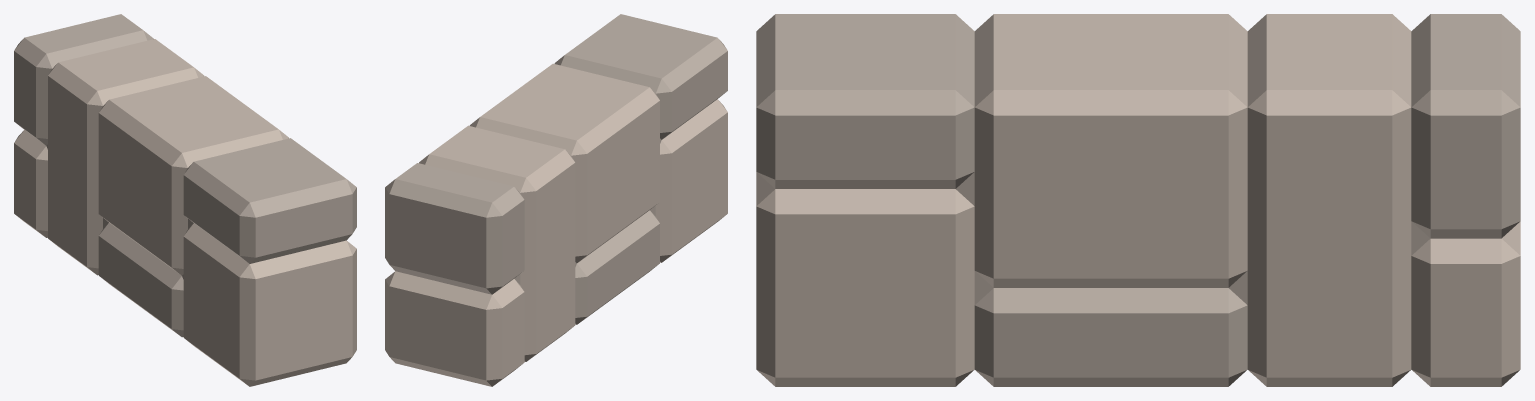
The model's file is Stone_Curb_3.glb.
3 views of the same model, side by side, from view 1: azimuth 30°, elevation 25°; view 2: azimuth 150°, elevation 25°; view 3: azimuth 270°, elevation 25° (orthographic). The views are drawn at different scales.
Visible parts, largest first — view 1: object1; view 2: object1; view 3: object1.
Part boxes in pixels (bbox=[...]): object1: bbox=[14, 14, 356, 386]; object1: bbox=[385, 14, 727, 386]; object1: bbox=[756, 14, 1520, 386].
Size of the model in its own units: 0.2 by 0.3 by 0.7.
